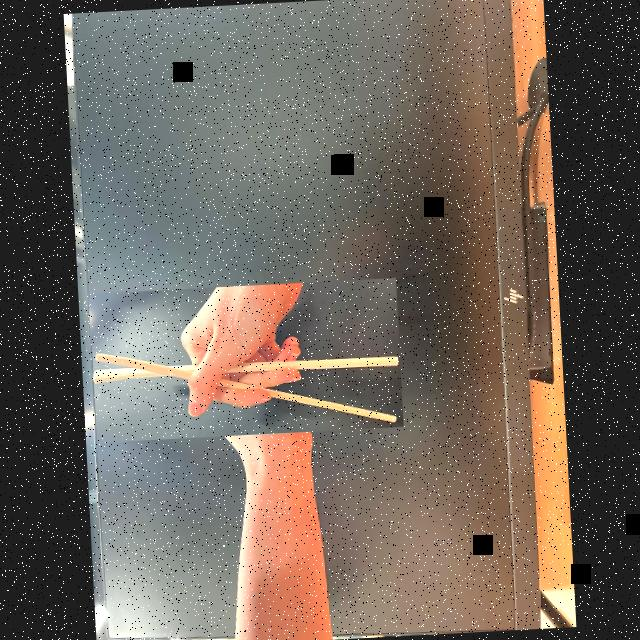stick: (89, 276, 404, 442)
